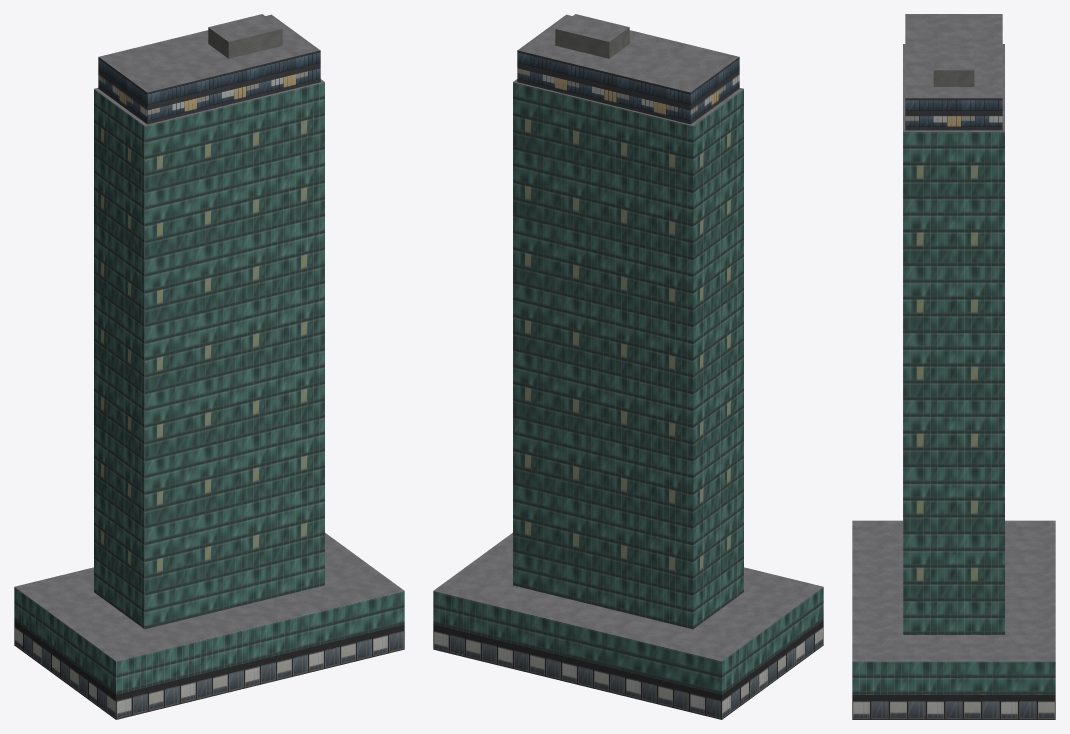
Rendered from 042_glass_slab_green.glb.
The picture shows the model from 3 angles, left to right: view 1: azimuth 30°, elevation 25°; view 2: azimuth 150°, elevation 25°; view 3: azimuth 270°, elevation 25°; orthographic projection.
Visible parts, largest first — view 1: 042_glass_slab_green; view 2: 042_glass_slab_green; view 3: 042_glass_slab_green.
Part boxes in pixels (left/top/right/bottom): 042_glass_slab_green: left=14, top=14, right=404, bottom=719; 042_glass_slab_green: left=433, top=14, right=823, bottom=719; 042_glass_slab_green: left=852, top=14, right=1055, bottom=719.
Bounding box in the file's own units: 72 × 146 × 44.
Materials: 5 (5 with a texture image).
